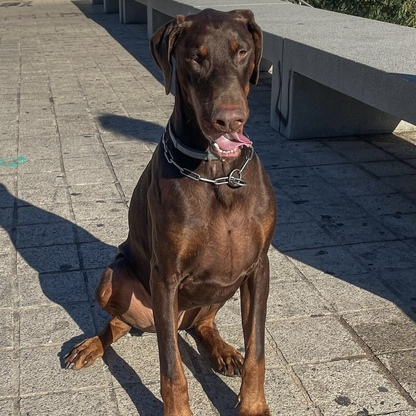doberman: (58, 8, 278, 415)
